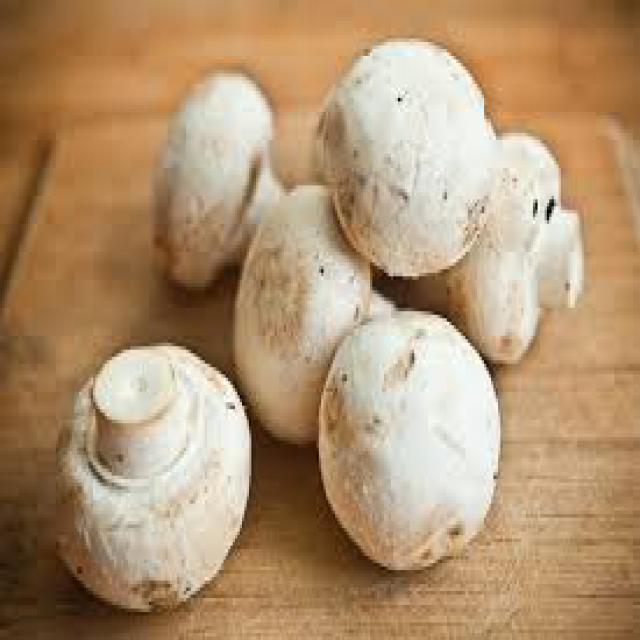Agaricus bisporus: (58, 342, 253, 607), (320, 307, 499, 570), (229, 182, 396, 433), (327, 35, 499, 275), (468, 122, 588, 358), (154, 73, 289, 270)
